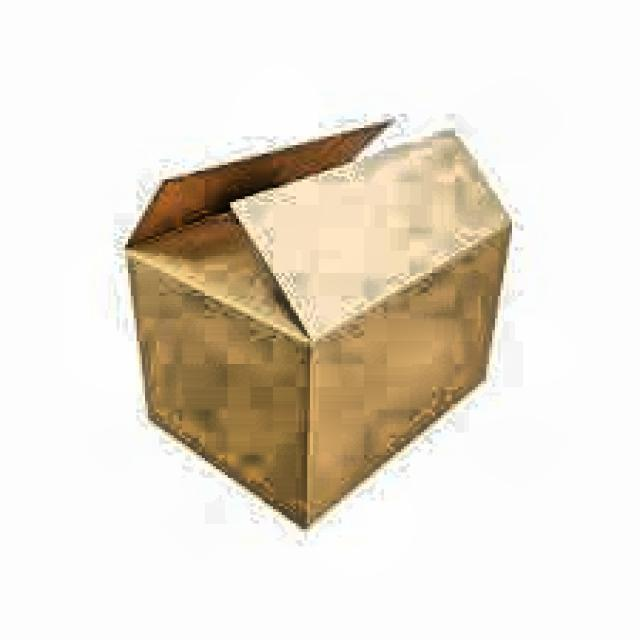cardboard: (122, 116, 512, 530)
